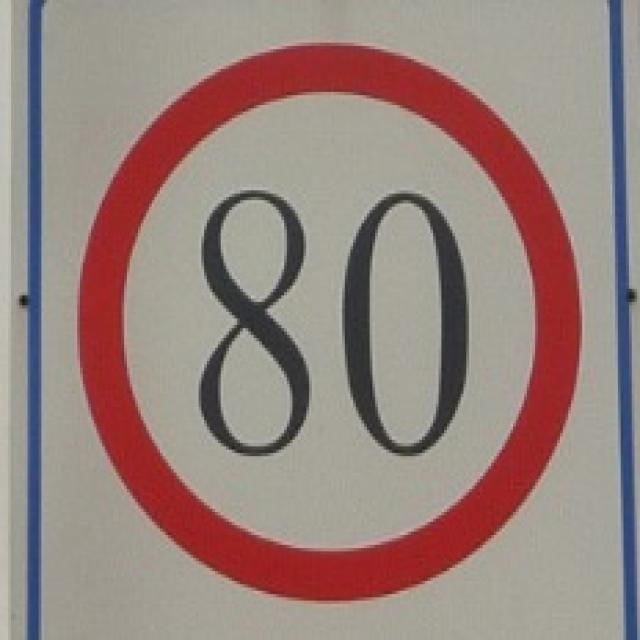Speed Limit -80-: (189, 185, 479, 465)
